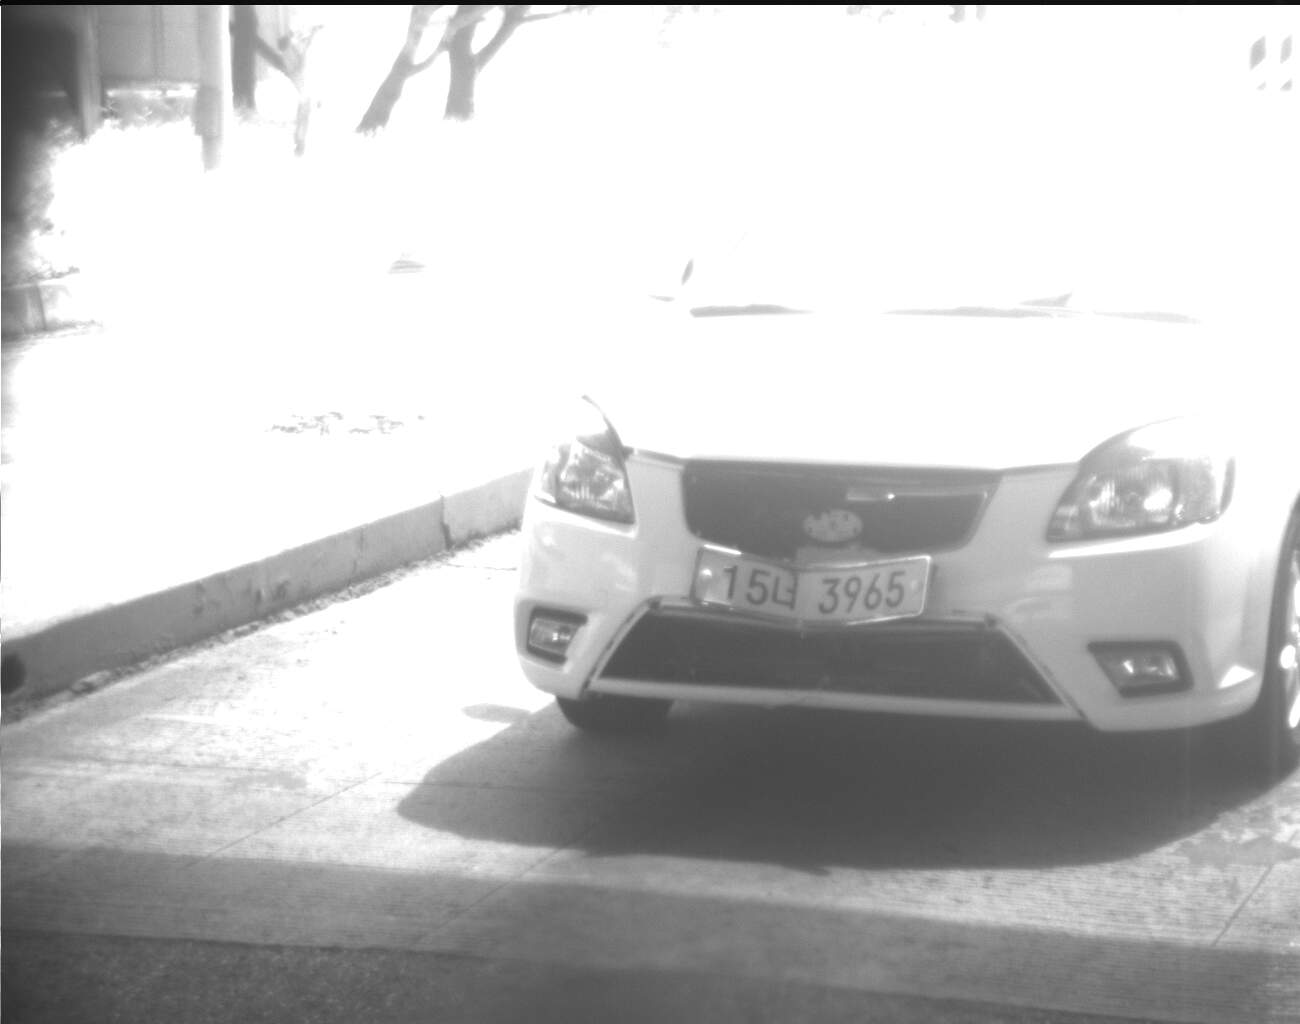car: (509, 148, 1300, 762)
plate: (688, 541, 933, 624)
